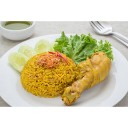briyani: (25, 52, 111, 99)
